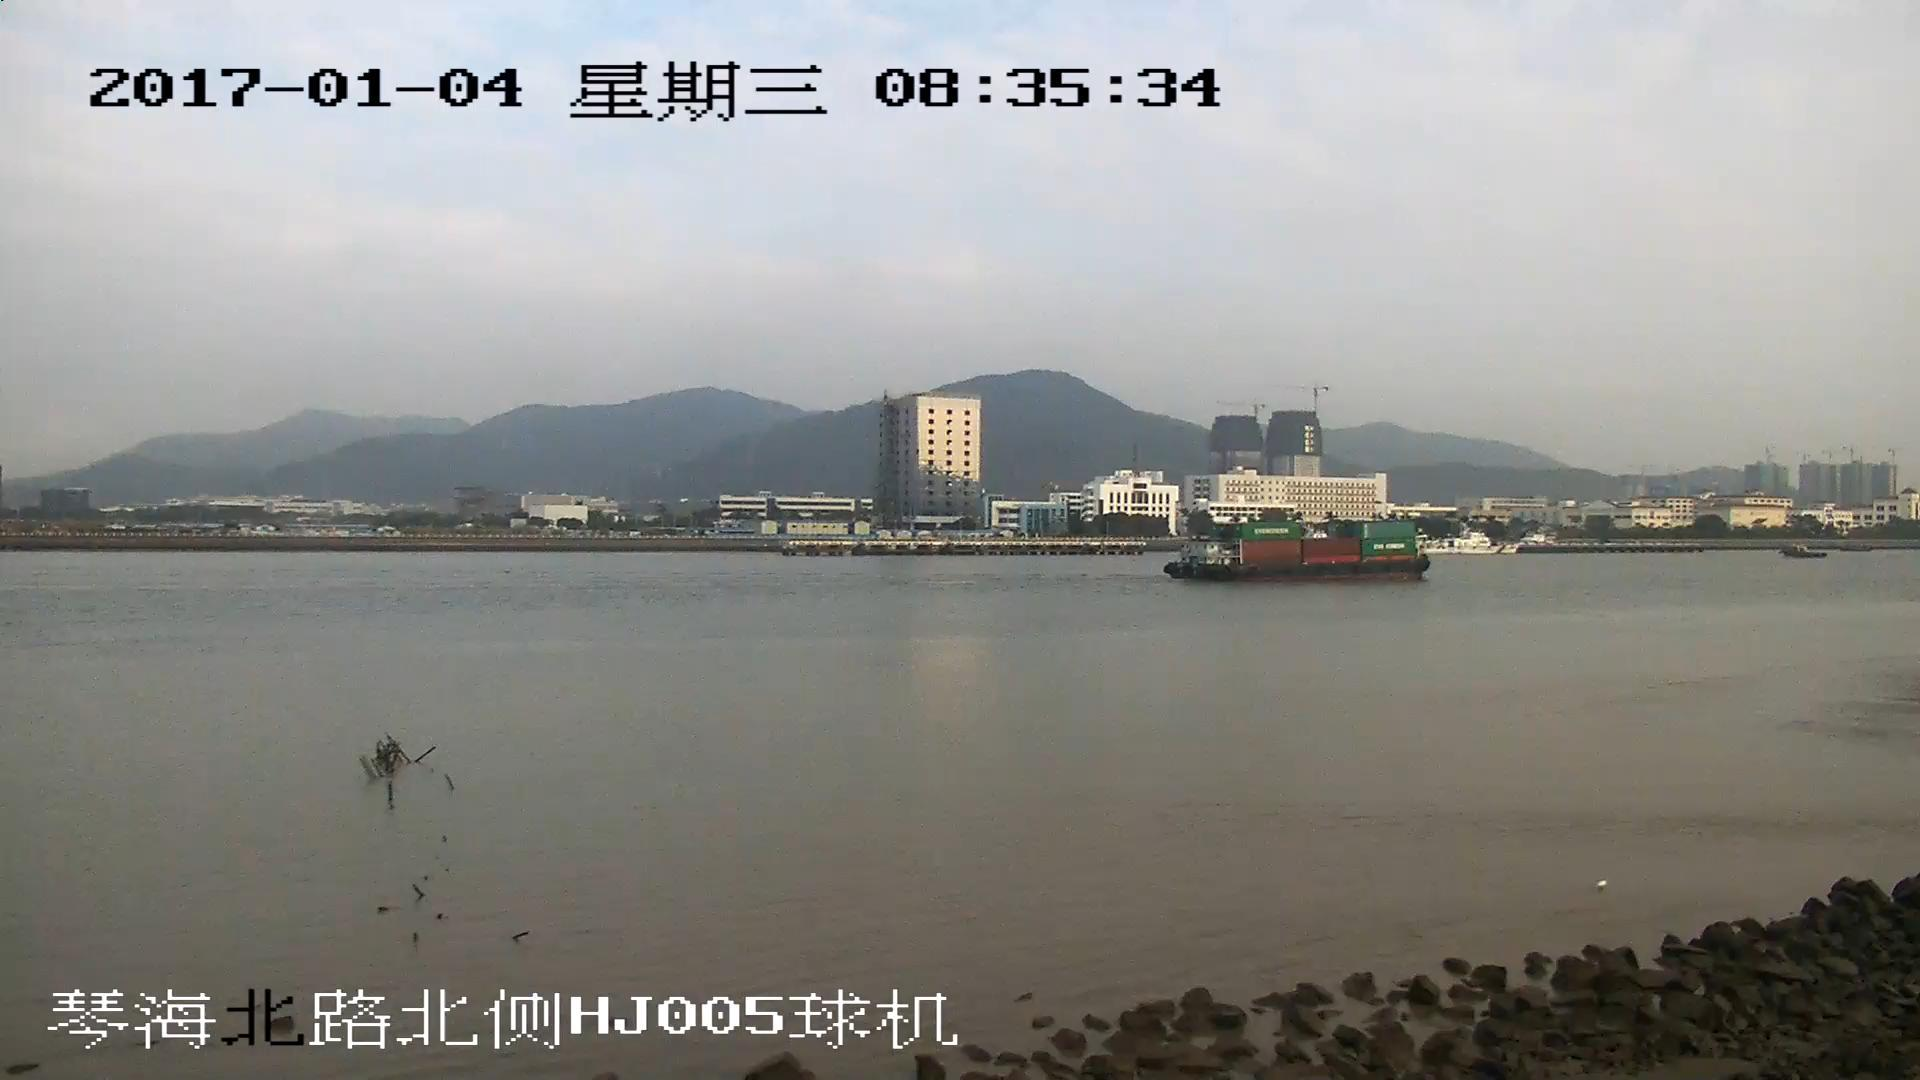Ship: (1168, 520, 1429, 585)
